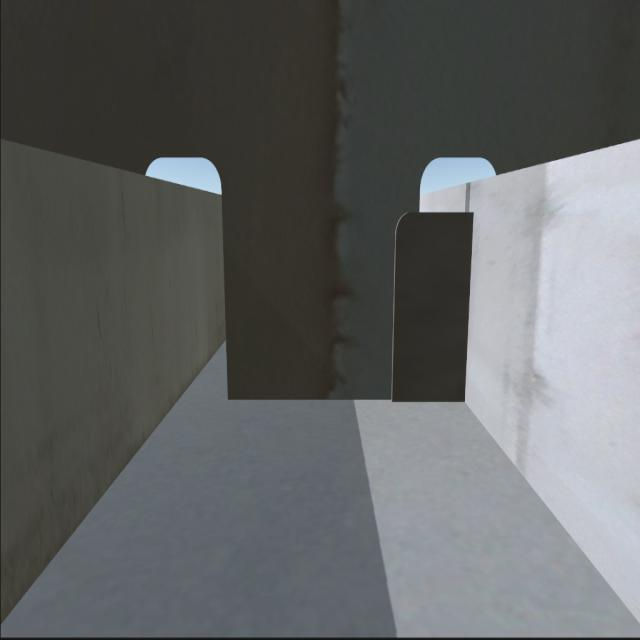fillet_yong_jeop_jang: (226, 390, 464, 412)
longi_yong_jeop_jang: (459, 212, 476, 409)
plate_CP05: (394, 210, 474, 401)
